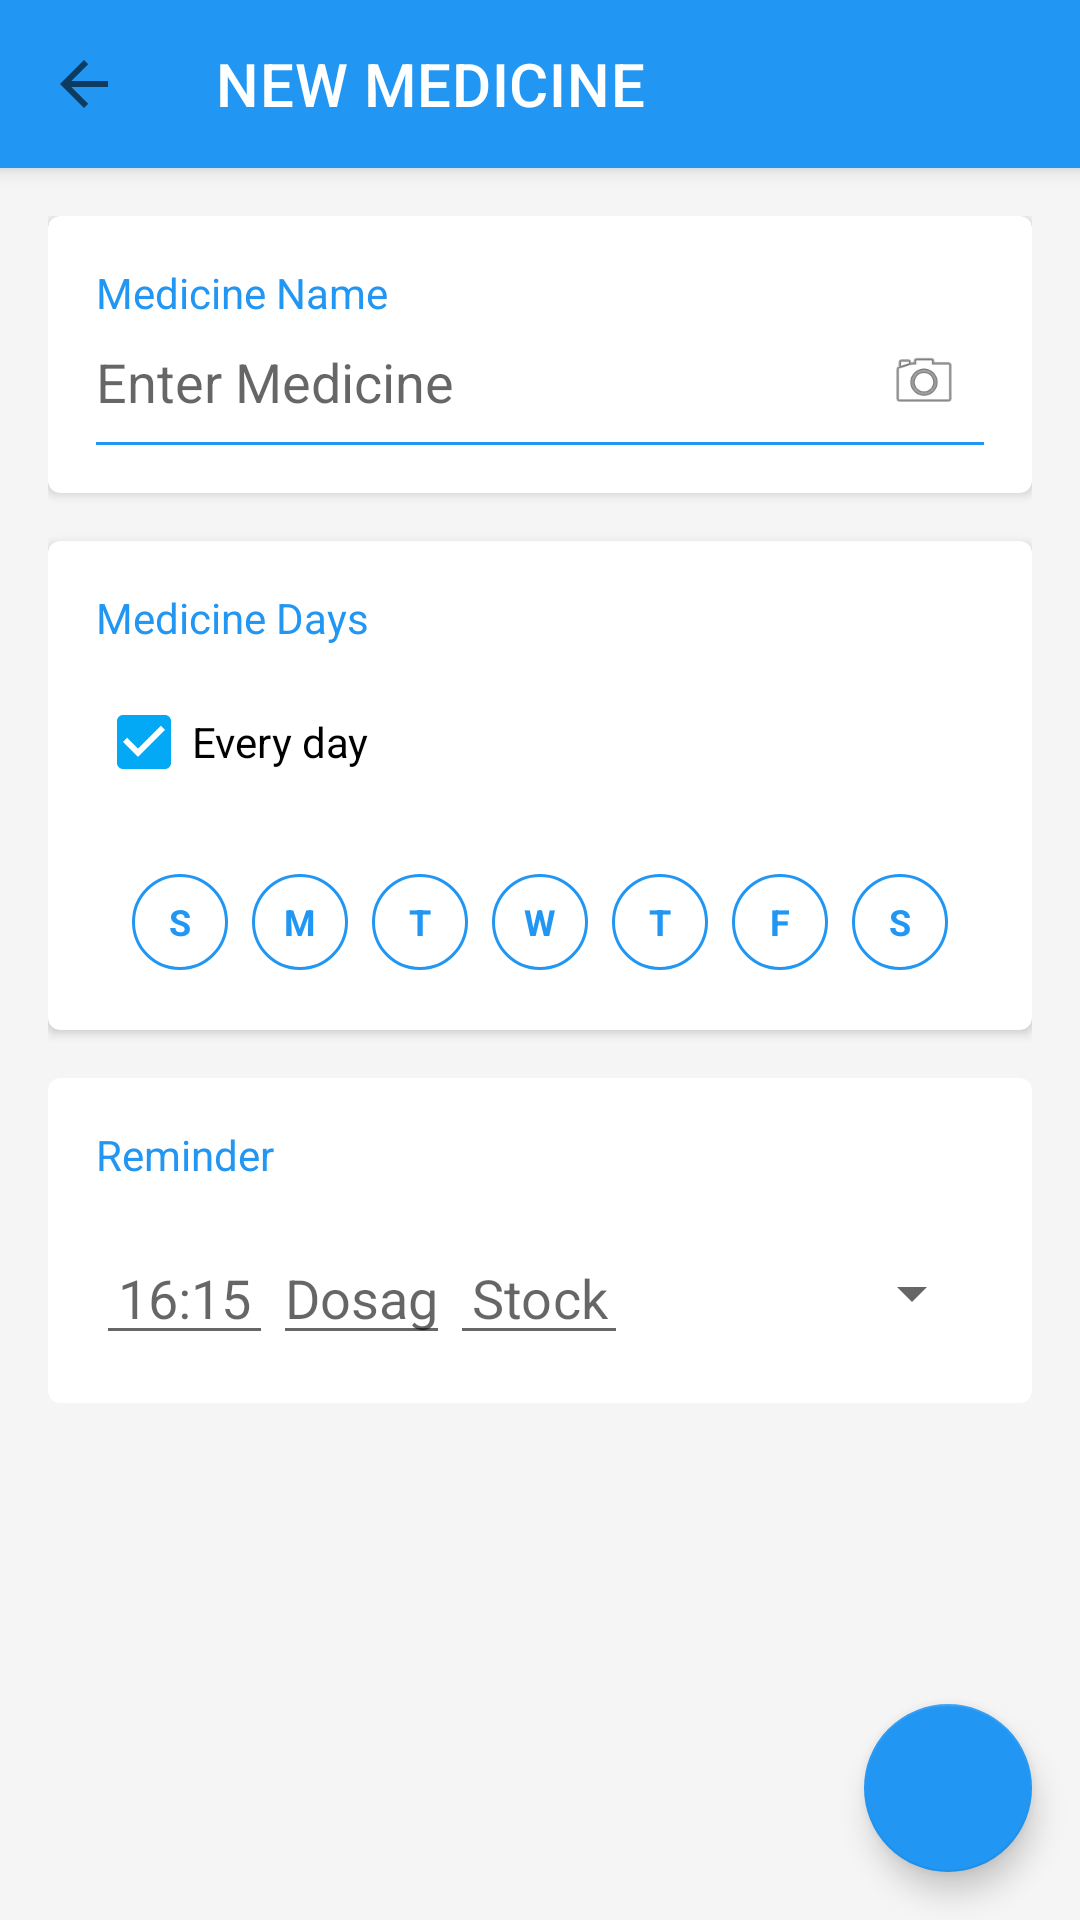

Where to tap for icons on this 1080w x 1920h app screen, as point (x, y):
camera: point (924, 380)
